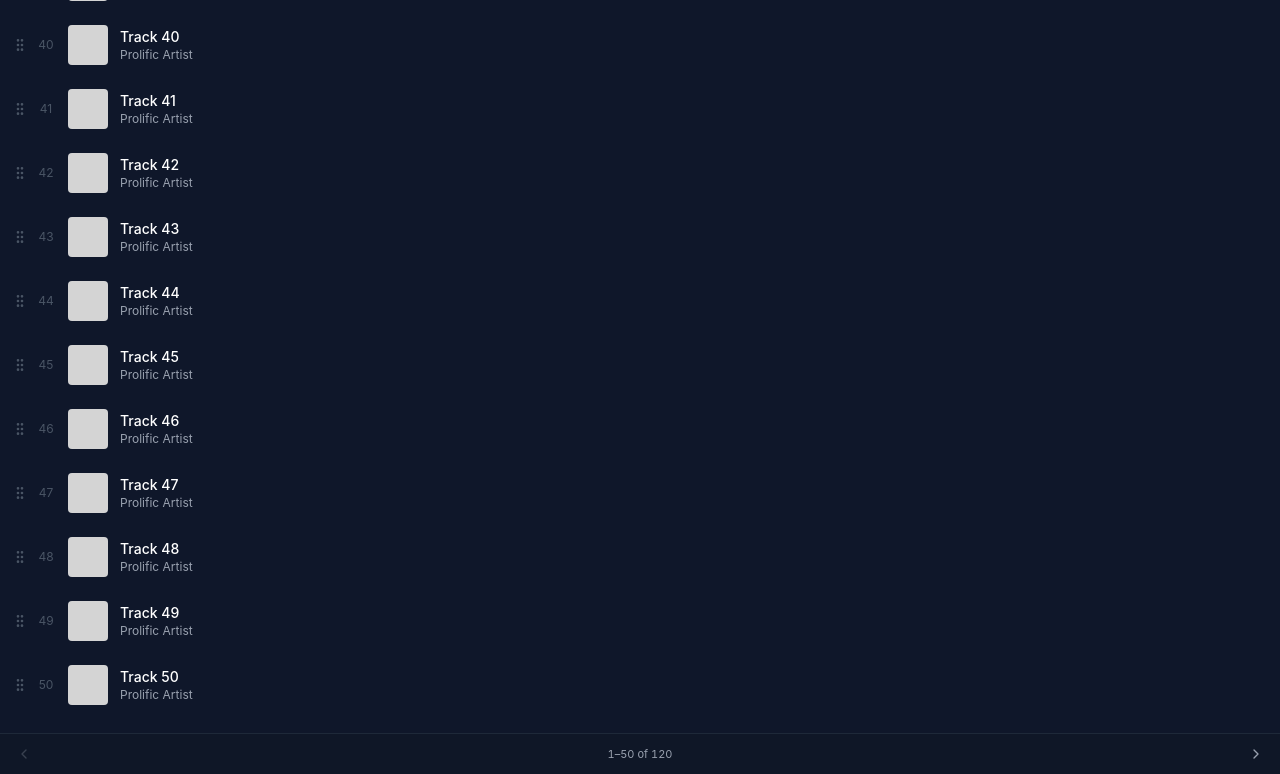
Test: QueueList paging › shows the final partial page and stops there
(page scrolled)
Click the button named "Next page of queue".
click(1256, 754)  # box [1244,742,1268,766]
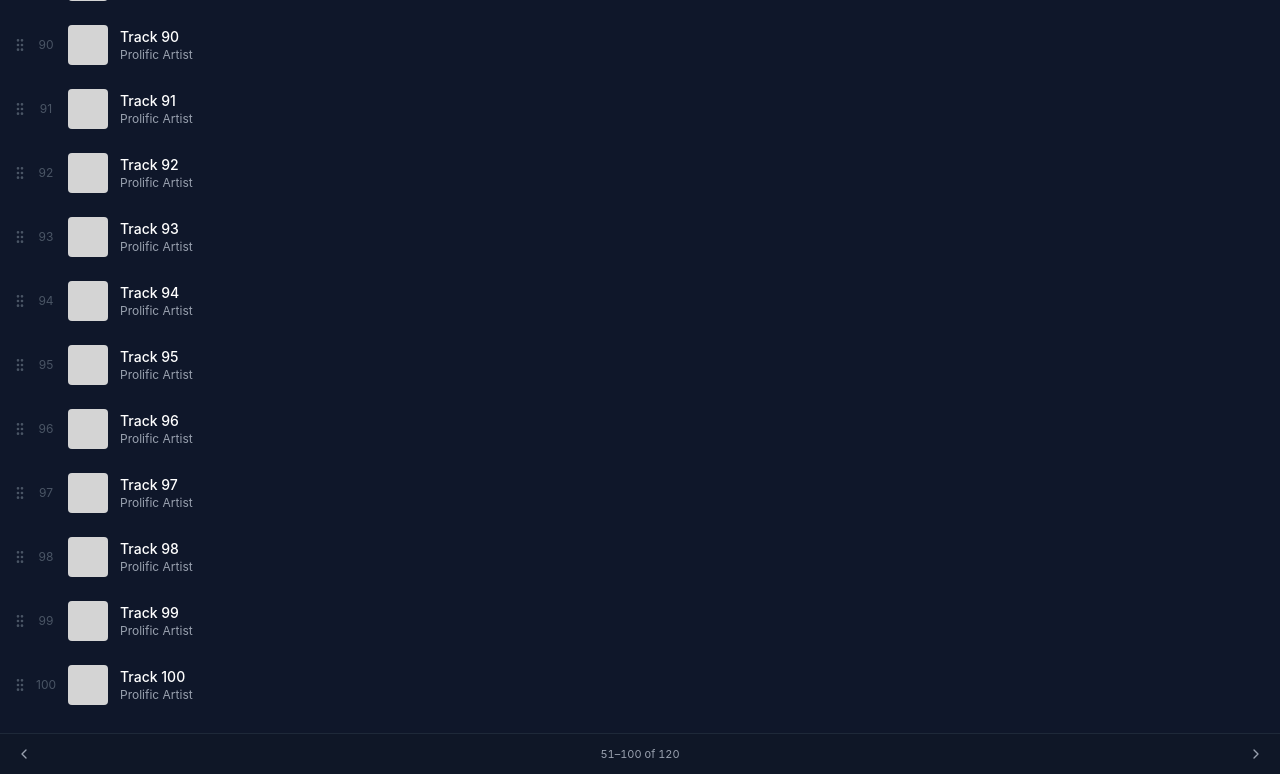
Click the button named "Next page of queue".
click(1256, 754)  # box [1244,742,1268,766]
(page scrolled)
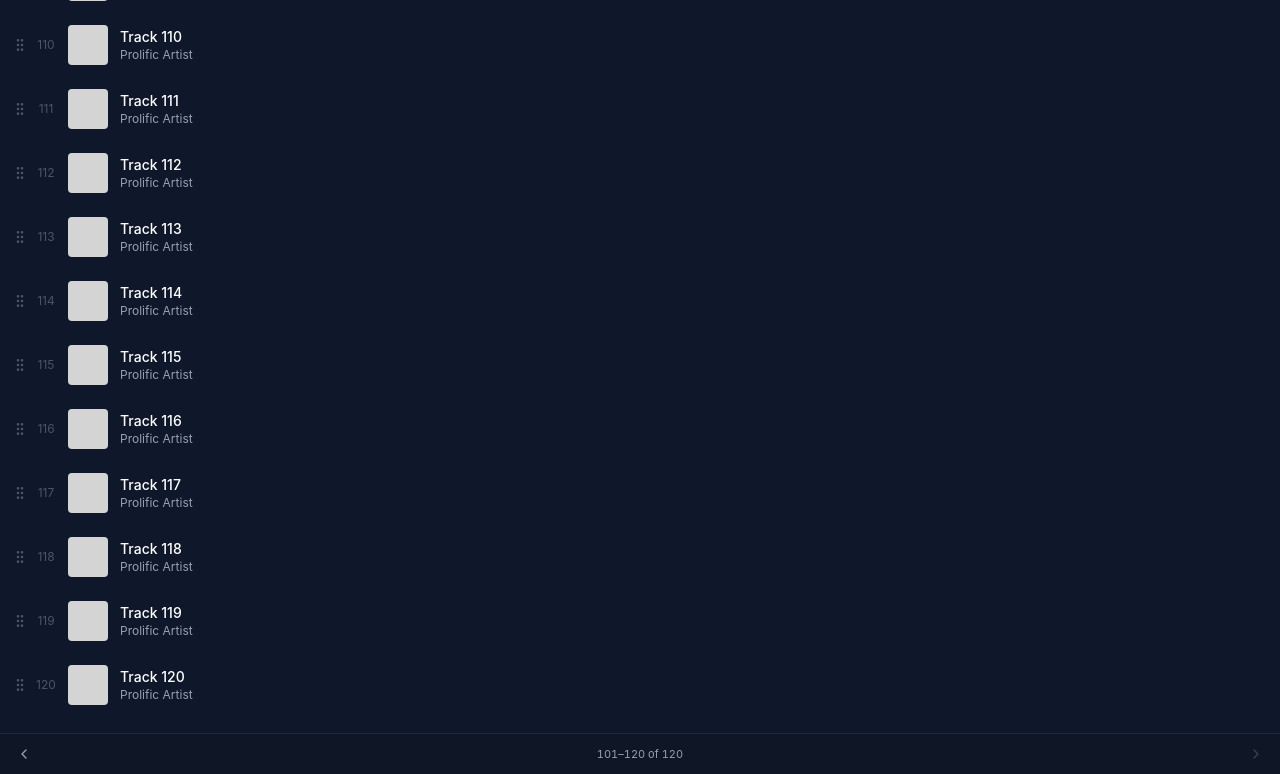
Expected: the text "101–120 of 120" is shown, [597,746,683,762]
Expected: the button named "Next page of queue" is disabled, [1244,742,1268,766]
